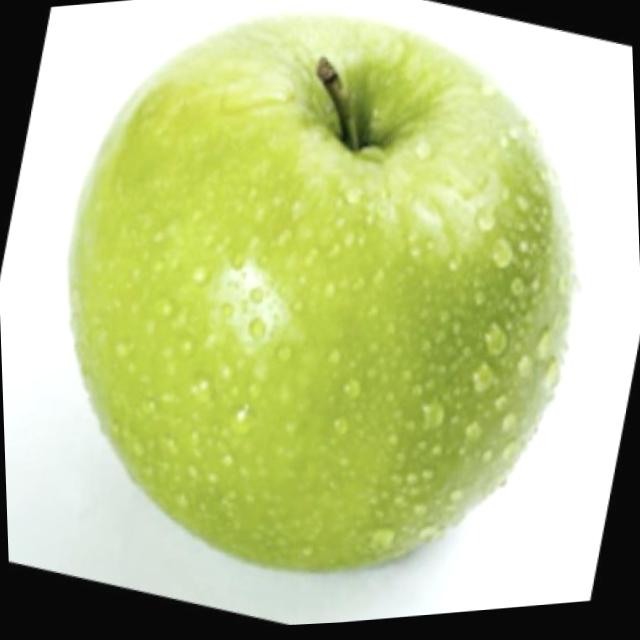Apple: (58, 0, 586, 596)
